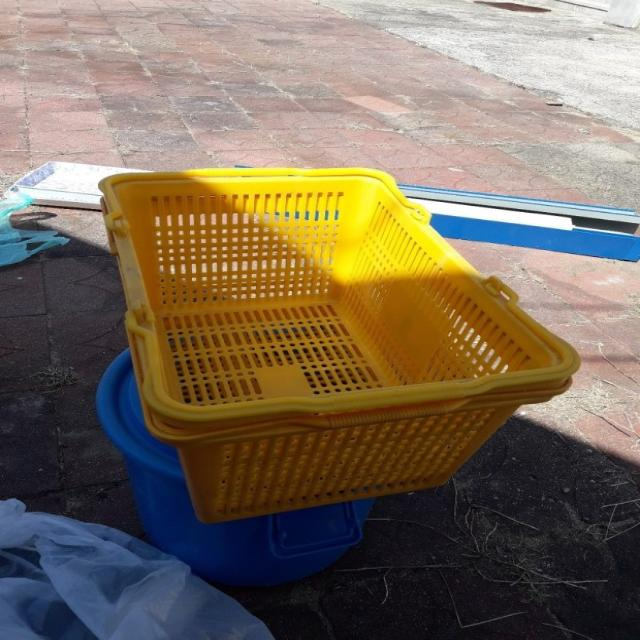basket: (96, 102, 598, 534)
